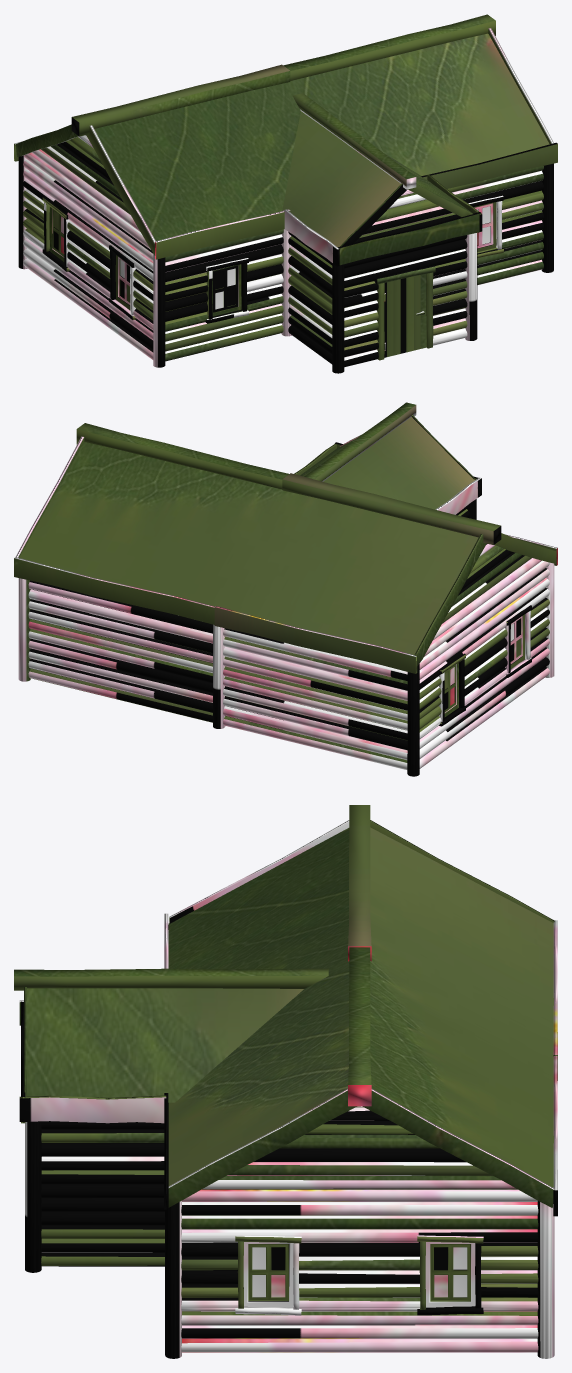
Rendered from cabin.obj.
3 renders of one model, top to bottom at view 1: azimuth 30°, elevation 25°; view 2: azimuth 150°, elevation 25°; view 3: azimuth 270°, elevation 25°, orthographic. The views are drawn at different scales.
Parts seen in each view (by area): view 1: Cabin_Material.002_0; view 2: Cabin_Material.002_0; view 3: Cabin_Material.002_0.
Part boxes in pixels (x1,y1,x2,y2): Cabin_Material.002_0: (14, 14, 557, 373); Cabin_Material.002_0: (14, 402, 557, 776); Cabin_Material.002_0: (14, 805, 557, 1358).
Bounding box in the file's own units: 10.71 × 4.94 × 8.76.
